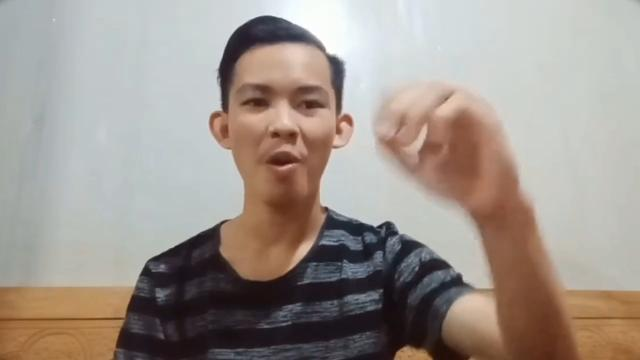O: (372, 76, 526, 218)
